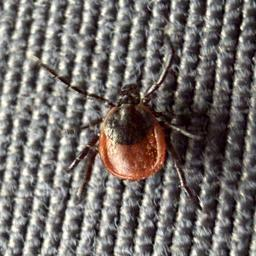Ixodes scapularis: (40, 34, 206, 211)
